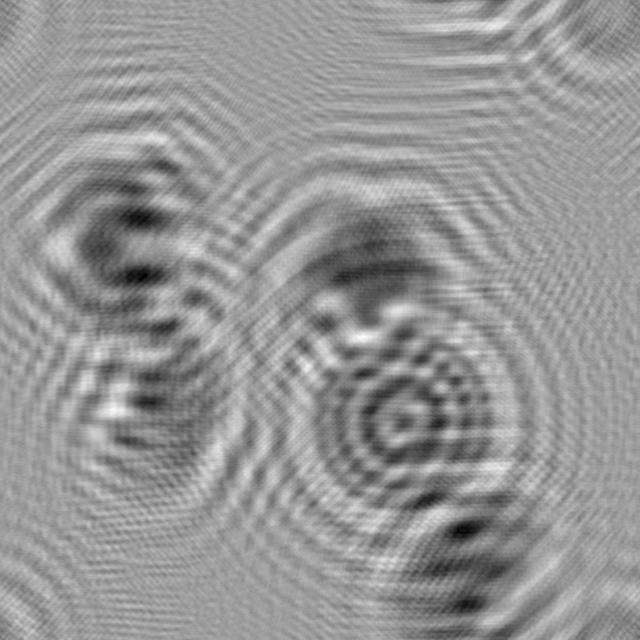K: (220, 126, 503, 360)
L: (24, 281, 279, 545)
M: (0, 110, 250, 354)
N: (333, 461, 611, 640)
O: (263, 297, 524, 549)
